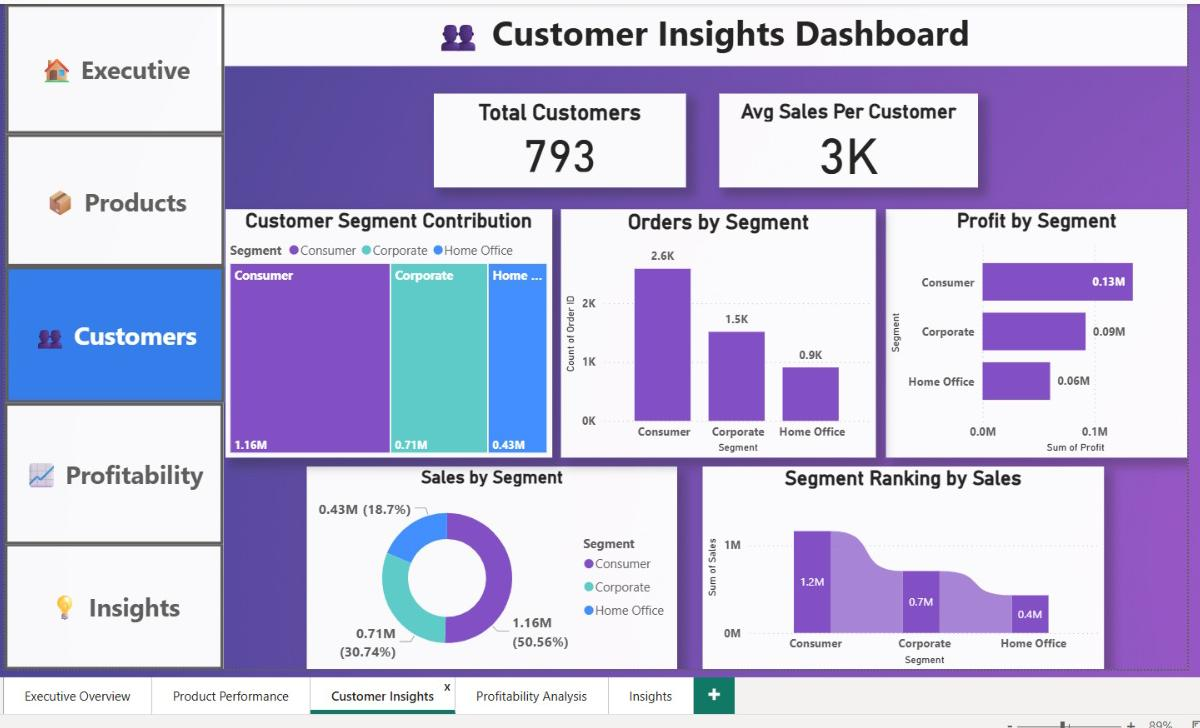

The page's visual inventory and layout, read from the dashboard file:
{"tool":"powerbi","page":{"name":"Customer Insights","canvas":[1280,720],"ordinal":2},"visuals":[{"type":"card","title":"Total Customers","fields":{"Values":["Sample_ Superstore.Total Customers"]},"box":[464.7,96.6,272.7,101.5],"z":0},{"type":"actionButton","box":[0,584.3,236.5,136.3],"z":0,"group":"g1"},{"type":"actionButton","box":[1.4,0,236.5,140.5],"z":1000,"group":"g1"},{"type":"donutChart","title":"Sales by Segment","fields":{"Category":["Sample_ Superstore.Segment"],"Y":["Sum(Sample_ Superstore.Sales)"]},"box":[326.5,500.1,401.1,220.1],"z":1000},{"type":"actionButton","box":[1.4,140.5,236.5,143.3],"z":2000,"group":"g1"},{"type":"clusteredBarChart","title":"Profit by Segment","fields":{"Category":["Sample_ Superstore.Segment"],"Y":["Sum(Sample_ Superstore.Profit)"]},"box":[953.8,222.6,326.5,269],"z":2000},{"type":"treemap","title":"Customer Segment Contribution","fields":{"Group":["Sample_ Superstore.Segment"],"Values":["Sum(Sample_ Superstore.Sales)"]},"box":[238.5,222.6,353.4,269],"z":3000},{"type":"actionButton","box":[1.4,283.8,236.5,147.5],"z":3000,"group":"g1"},{"type":"clusteredColumnChart","title":"Orders by Segment","fields":{"Category":["Sample_ Superstore.Segment"],"Y":["Count(Sample_ Superstore.Order ID)"]},"box":[601.6,222.6,341.2,269],"z":4000},{"type":"actionButton","box":[0,431.3,236.5,153],"z":4000,"group":"g1"},{"type":"card","title":"Avg Sales Per Customer","fields":{"Values":["Sample_ Superstore.Average Sales Per Customer"]},"box":[772.8,96.6,280,101.5],"z":5000},{"type":"ribbonChart","title":"Segment Ranking by Sales","fields":{"Category":["Sample_ Superstore.Segment"],"Y":["Sum(Sample_ Superstore.Sales)"]},"box":[755.7,500.1,434.1,220.1],"z":6000},{"type":"textbox","box":[229.9,0,1050.4,67.3],"z":8000},{"type":"group","id":"g1","title":"Group 1","box":[0,0,237.9,720.7],"z":8001,"group":"g2"},{"type":"group","id":"g2","title":"Navigation Buttons","box":[0,0,238.5,720.2],"z":9000}]}

Visuals, with their boxes in screenshot pixels (x1, y1, x2, y2):
"Total Customers" card: box(433, 89, 685, 183)
actionButton: box(3, 540, 222, 666)
actionButton: box(4, 0, 223, 130)
"Sales by Segment" donutChart: box(305, 462, 676, 666)
actionButton: box(4, 130, 223, 262)
"Profit by Segment" clusteredBarChart: box(885, 206, 1187, 455)
"Customer Segment Contribution" treemap: box(224, 206, 550, 455)
actionButton: box(4, 262, 223, 399)
"Orders by Segment" clusteredColumnChart: box(559, 206, 875, 455)
actionButton: box(3, 399, 222, 540)
"Avg Sales Per Customer" card: box(718, 89, 976, 183)
"Segment Ranking by Sales" ribbonChart: box(702, 462, 1103, 666)
textbox: box(216, 0, 1187, 62)
"Group 1" group: box(3, 0, 223, 666)
"Navigation Buttons" group: box(3, 0, 224, 666)
